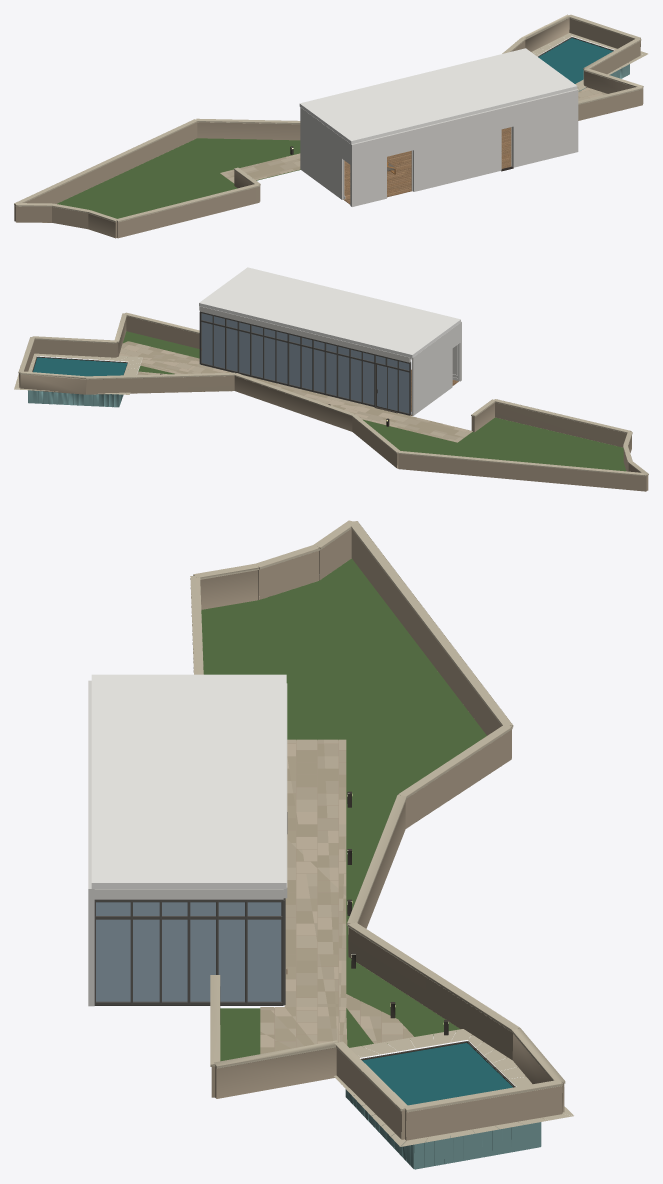
Rendered from house03.glb.
3 views of the same model, one above another, from view 1: azimuth 30°, elevation 25°; view 2: azimuth 150°, elevation 25°; view 3: azimuth 270°, elevation 25° (orthographic). The views are drawn at different scales.
Parts seen in each view (by area): view 1: SM_GDN_MainShell, SM_GCX_CopingWalls, SM_GDN_Turf, SM_GDN_Terrace, SM_OakFloor_IndividualBoards, SM_GDN_Water; view 2: SM_GCX_CopingWalls, SM_GDN_MainShell, SM_GDN_FixedGlazing, SM_GDN_Turf, SM_GDN_Terrace, SM_GDN_Water, SM_GDN_DoorLeafGlass; view 3: SM_GDN_MainShell, SM_GCX_CopingWalls, SM_GDN_Turf, SM_GDN_Terrace, SM_GDN_FixedGlazing, SM_GDN_Water.
Part boxes in pixels (box(x1,y1,x2,y2)): SM_GDN_MainShell: box(299, 48, 578, 206); SM_GCX_CopingWalls: box(14, 14, 643, 238); SM_GDN_Turf: box(57, 138, 300, 218); SM_GDN_Terrace: box(220, 33, 647, 183); SM_OakFloor_IndividualBoards: box(343, 127, 511, 204); SM_GDN_Water: box(538, 38, 612, 83); SM_GCX_CopingWalls: box(18, 312, 648, 491); SM_GDN_MainShell: box(199, 267, 461, 415); SM_GDN_FixedGlazing: box(201, 313, 409, 413); SM_GDN_Turf: box(123, 331, 626, 471); SM_GDN_Terrace: box(14, 341, 472, 442); SM_GDN_Water: box(33, 357, 127, 376); SM_GDN_DoorLeafGlass: box(377, 364, 397, 410); SM_GDN_MainShell: box(88, 674, 287, 1006); SM_GCX_CopingWalls: box(190, 520, 565, 1169); SM_GDN_Turf: box(201, 558, 486, 1159); SM_GDN_Terrace: box(260, 739, 573, 1146); SM_GDN_FixedGlazing: box(96, 902, 281, 1001); SM_GDN_Water: box(362, 1043, 512, 1105).
Bounding box in the file's own units: 42.81 × 5.34 × 14.77.
Materials: 41 (13 with a texture image).
